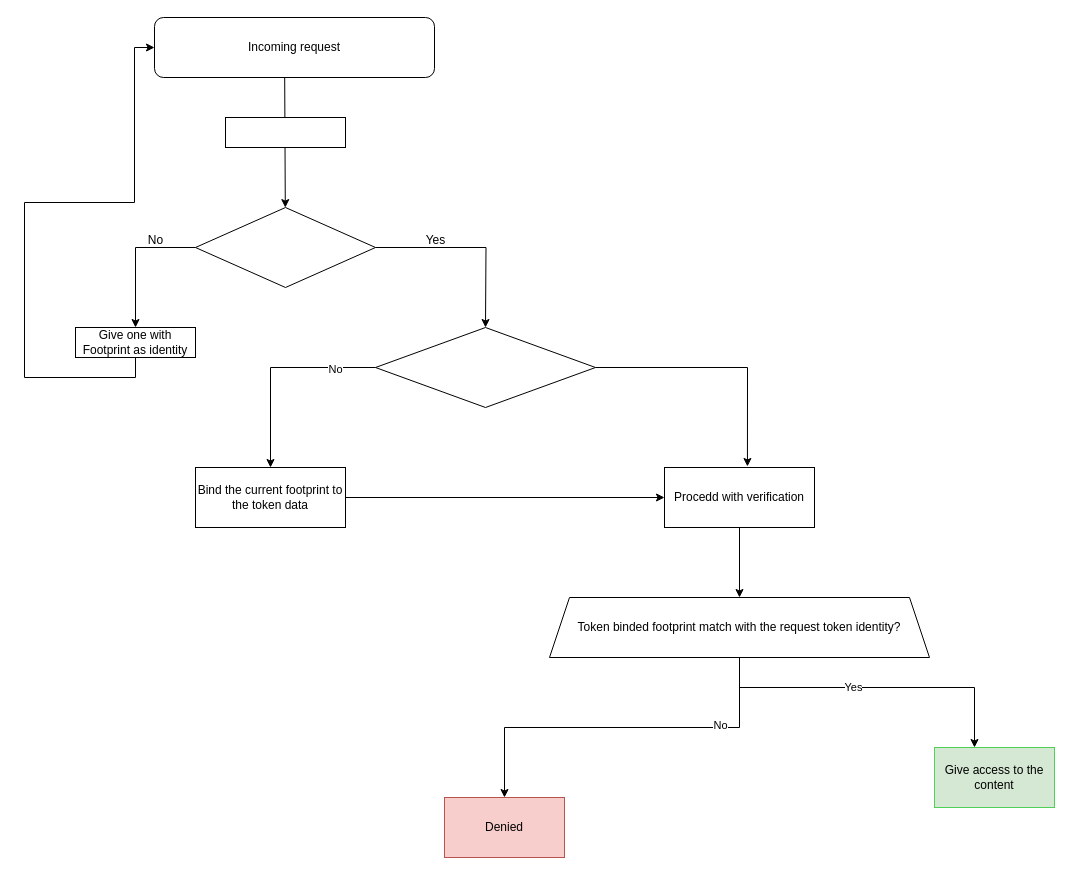
Some shapes in this 1072 by 875 pixel diagram are drawn without their labels. The box of each missing label's shape, as (x1, y1, x2, y2) in pixels:
Generate Footprint: (224, 116, 346, 148)
Has identity on the JWT?: (194, 206, 376, 288)
The requested token has a binded footprint?: (374, 326, 596, 408)
